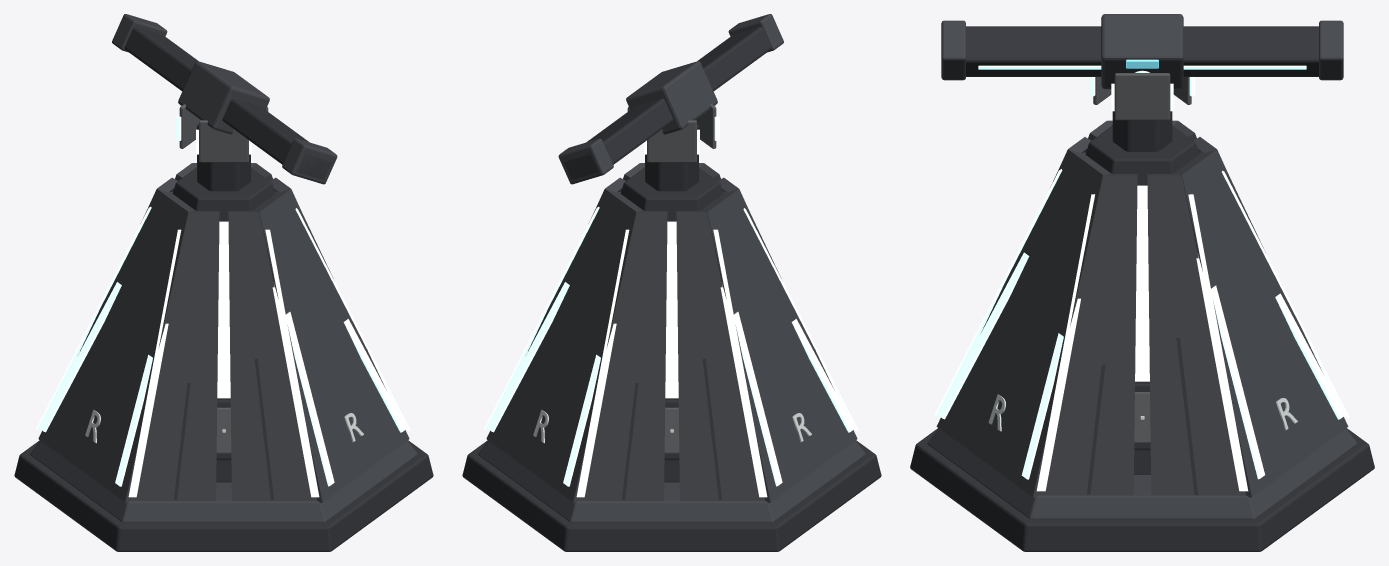
3 renders of one model, left to right at view 1: azimuth 30°, elevation 25°; view 2: azimuth 150°, elevation 25°; view 3: azimuth 270°, elevation 25°, orthographic. The views are drawn at different scales.
Visible parts, largest first — view 1: Base_TeamPrimaryShell, Base_BaseGraphite, ShellPanel.004, ShellPanel.005, Base_TeamGlow, DartModule_TeamPrimaryShell, DartBar, ShellLight.005, ShellLight.004, SmallArmor.002, ShellLight.003, ShellLight (+3 smaller); view 2: Base_TeamPrimaryShell, Base_BaseGraphite, ShellPanel.002, ShellPanel.003, Base_TeamGlow, DartBar, DartModule_TeamPrimaryShell, ShellLight.003, ShellLight.002, SmallArmor.001, ShellLight.001, ShellLight.004 (+3 smaller); view 3: Base_TeamPrimaryShell, Base_BaseGraphite, ShellPanel, ShellPanel.001, DartBar, Base_TeamGlow, DartModule_TeamPrimaryShell, SmallArmor, ShellLight.001, ShellLight, DartModule_TeamGlow, ShellLight.005 (+5 smaller).
Part boxes in pixels (bbox=[...]): Base_TeamPrimaryShell: bbox=[30, 163, 417, 522]; Base_BaseGraphite: bbox=[14, 124, 433, 551]; ShellPanel.004: bbox=[130, 211, 219, 500]; ShellPanel.005: bbox=[228, 211, 317, 500]; Base_TeamGlow: bbox=[39, 221, 406, 486]; DartModule_TeamPrimaryShell: bbox=[112, 14, 337, 184]; DartBar: bbox=[124, 27, 331, 179]; ShellLight.005: bbox=[265, 229, 319, 497]; ShellLight.004: bbox=[128, 229, 181, 497]; SmallArmor.002: bbox=[199, 120, 248, 162]; ShellLight.003: bbox=[36, 206, 151, 430]; ShellLight: bbox=[295, 208, 410, 431]; Base_TeamPrimaryShell: bbox=[478, 163, 865, 522]; Base_BaseGraphite: bbox=[462, 124, 881, 551]; ShellPanel.002: bbox=[578, 211, 667, 500]; ShellPanel.003: bbox=[676, 211, 765, 500]; Base_TeamGlow: bbox=[487, 221, 854, 486]; DartBar: bbox=[564, 27, 771, 179]; DartModule_TeamPrimaryShell: bbox=[558, 14, 783, 184]; ShellLight.003: bbox=[713, 229, 767, 497]; ShellLight.002: bbox=[576, 229, 629, 497]; SmallArmor.001: bbox=[647, 120, 696, 162]; ShellLight.001: bbox=[484, 206, 599, 430]; ShellLight.004: bbox=[743, 208, 858, 431]; Base_TeamPrimaryShell: bbox=[927, 120, 1357, 519]; Base_BaseGraphite: bbox=[910, 111, 1374, 551]; ShellPanel: bbox=[1039, 174, 1137, 495]; ShellPanel.001: bbox=[1147, 174, 1245, 495]; DartBar: bbox=[966, 26, 1318, 76]; Base_TeamGlow: bbox=[938, 185, 1345, 479]; DartModule_TeamPrimaryShell: bbox=[941, 14, 1343, 89]; SmallArmor: bbox=[1114, 73, 1170, 120]; ShellLight.001: bbox=[1188, 194, 1248, 491]; ShellLight: bbox=[1036, 194, 1095, 491]; DartModule_TeamGlow: bbox=[978, 65, 1306, 69]; ShellLight.005: bbox=[934, 169, 1062, 416].
Size of the model in its own units: 0.9839 by 1.21 by 1.13.
